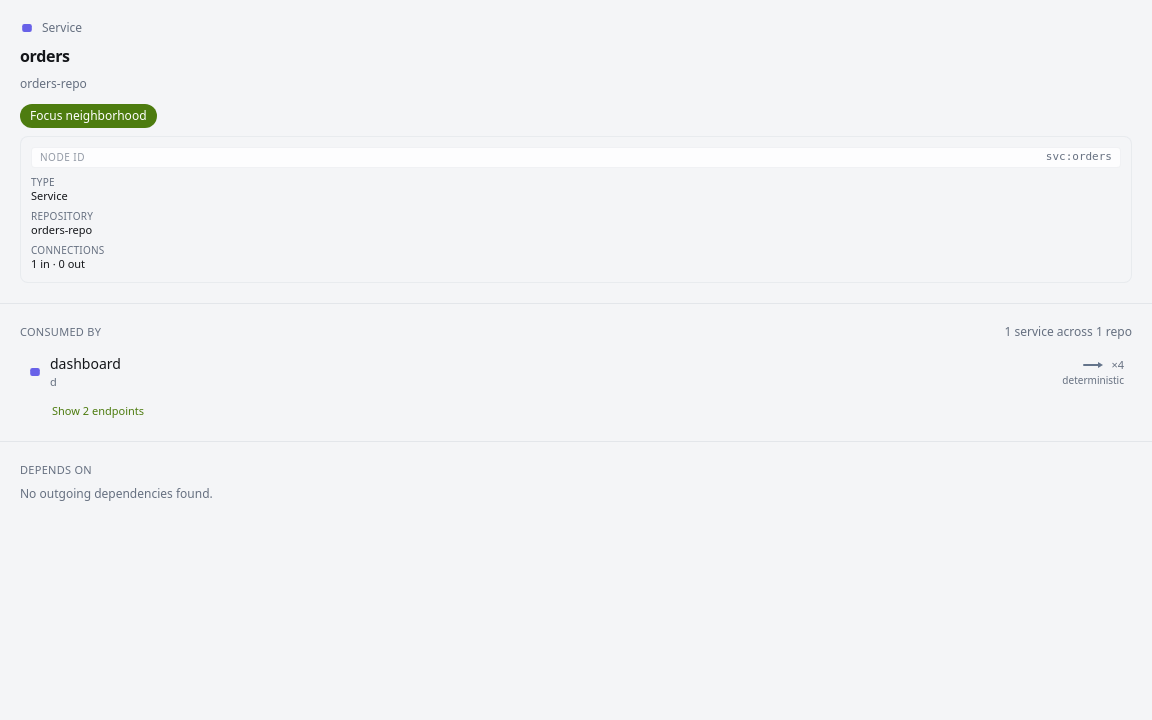
Test: MapInspector — which endpoints sit behind a relation › is collapsed until asked, then names each endpoint with its fields, provenance and caller site
What coordinates should you click on to do the following:
click the button "Show 2 endpoints"
I would click on:
 (98, 411)
Its box is [52, 403, 144, 419].
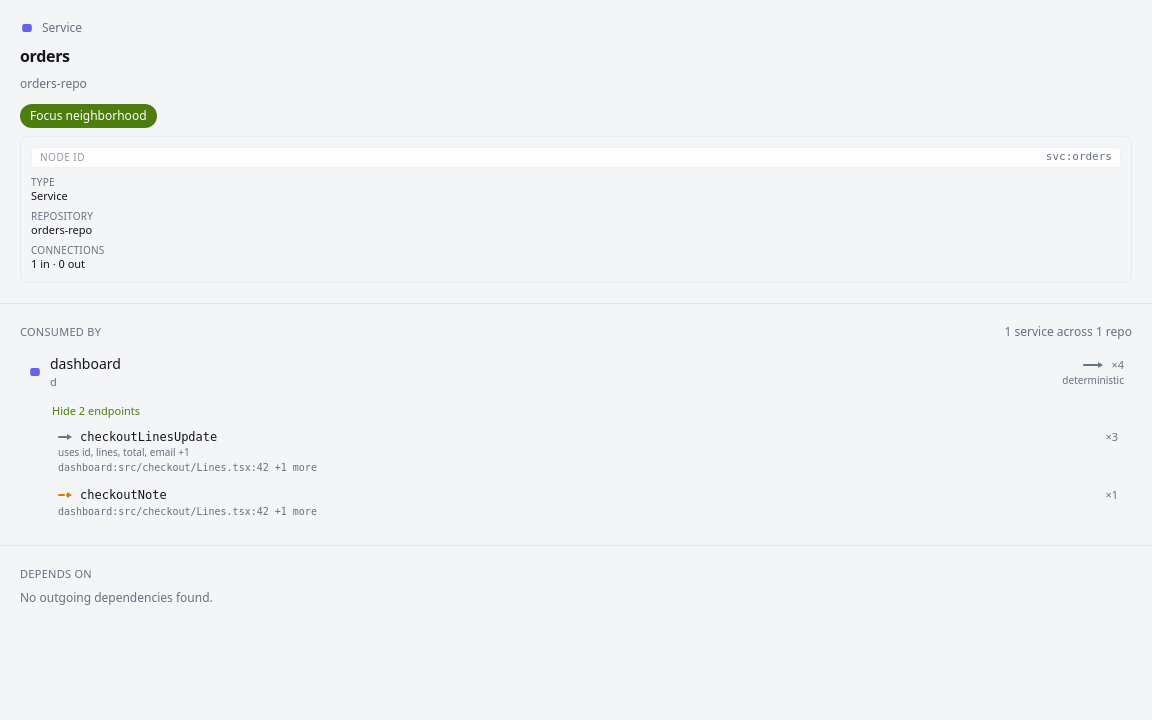
Check: the text "checkoutLinesUpdate" is shown, box [80, 430, 217, 444]
Check: the text "uses id, lines, total, email +1" is shown, box [58, 445, 190, 459]
Check: the text "dashboard:src/checkout/Lines.tsx:42 +1 more" is shown 2 times, box [58, 462, 317, 473]; [58, 506, 317, 517]
What coordinates should you click on to do the following:
click the button "Hide 2 endpoints"
I would click on:
 (96, 411)
Its box is [52, 403, 140, 419].
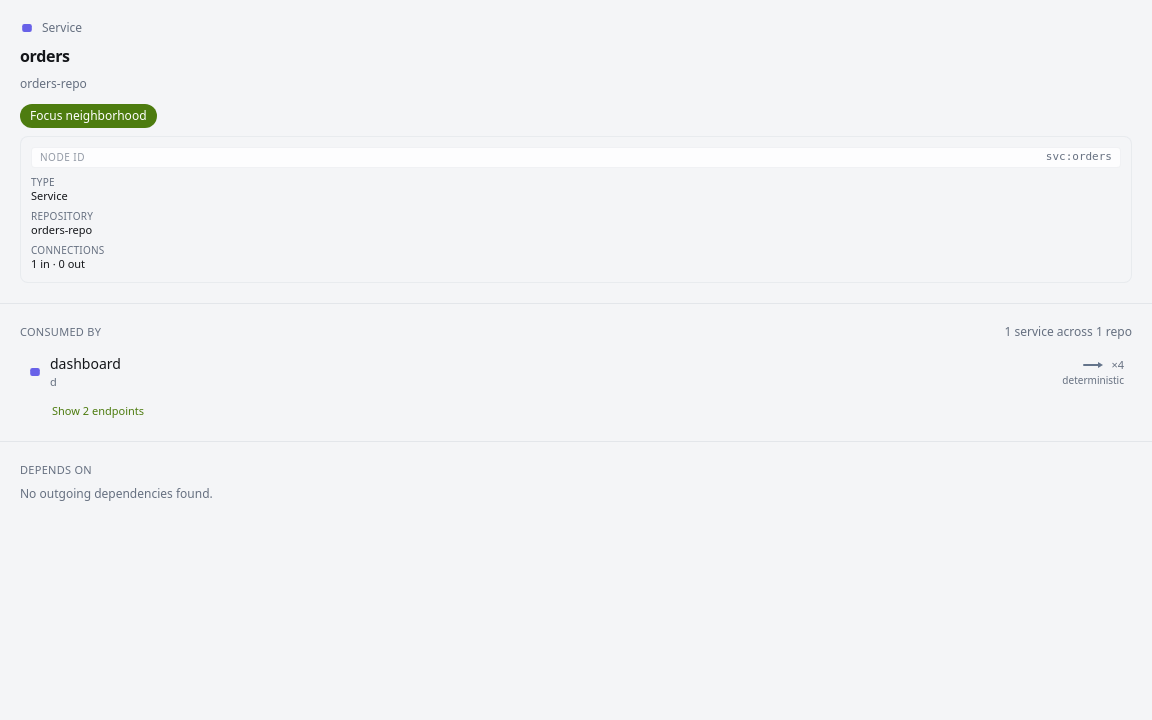
Check: the list with test id "endpoint-links" is gone
